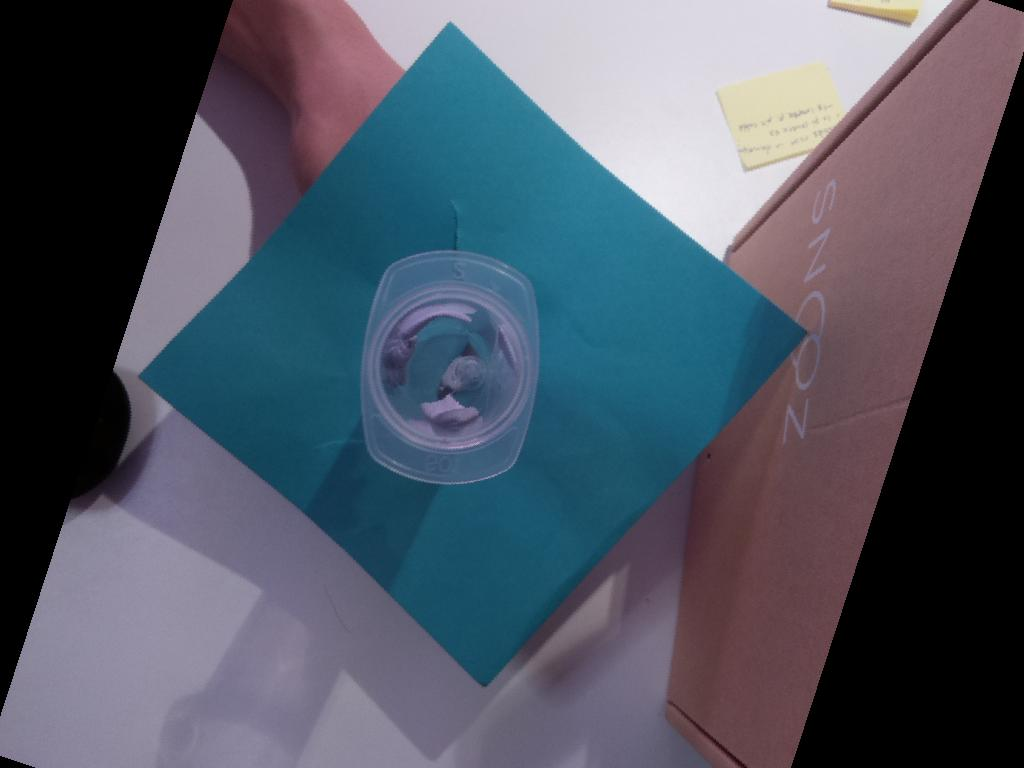dirty: (357, 248, 543, 492)
